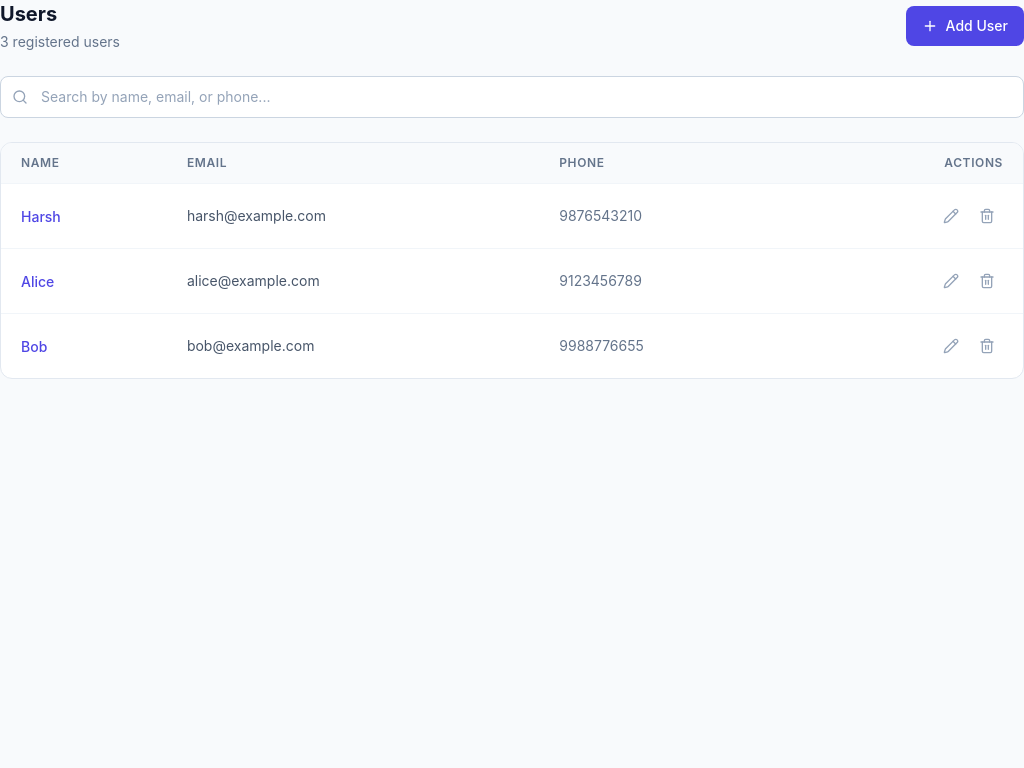
it: UsersPage › opens edit modal and closes it with Cancel button
Check: the button "Harsh" is shown, box [21,207,61,227]
Click the button titled "Edit user" in the row of "harsh@example.com". click: click(951, 216)
box: [935,200,967,232]
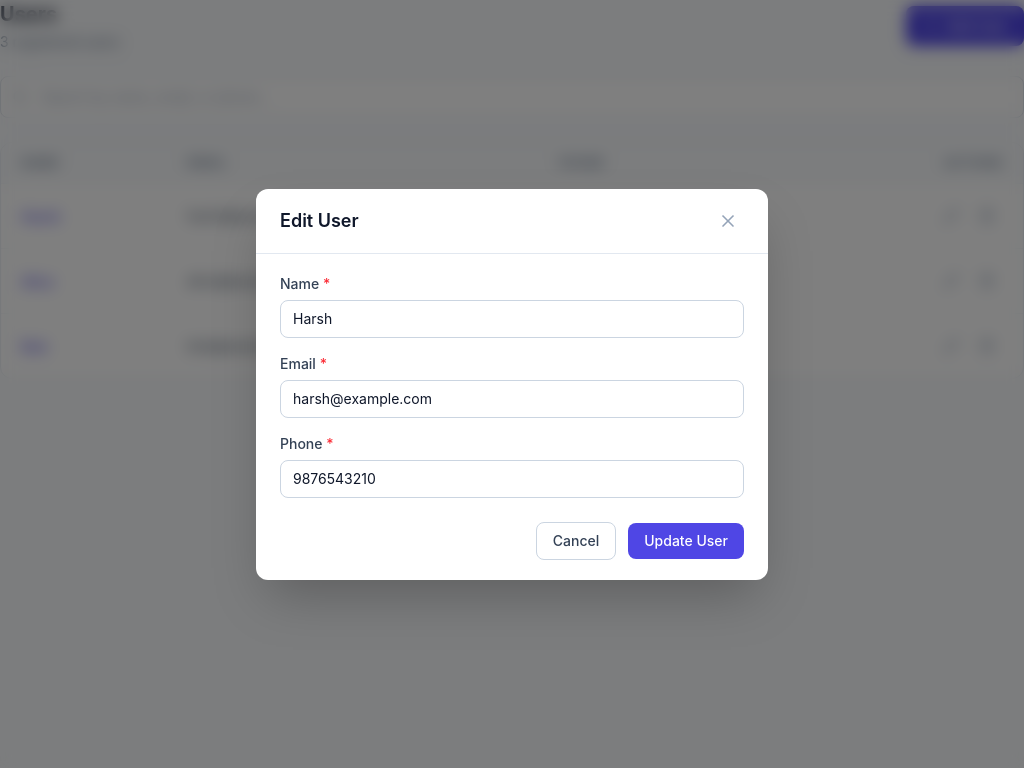
Check: the heading "Edit User" is shown, box [280,206,359,234]
Click the button "Cancel". click: click(576, 540)
box: [536,522,616,560]
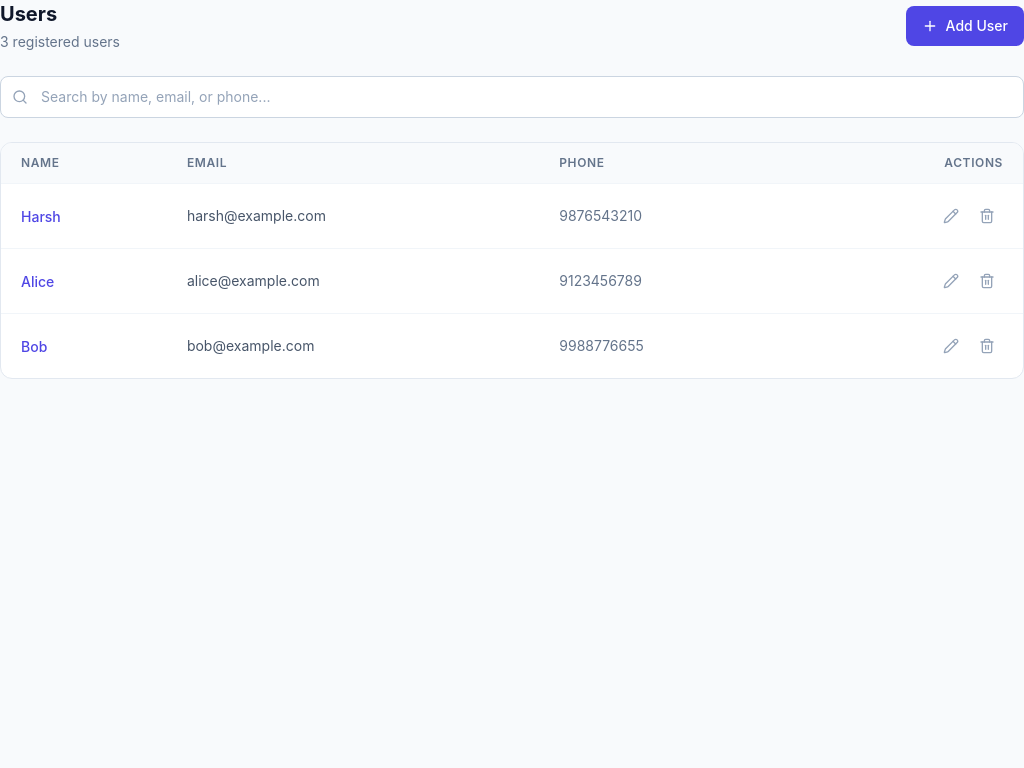
Check: the heading "Edit User" is gone
